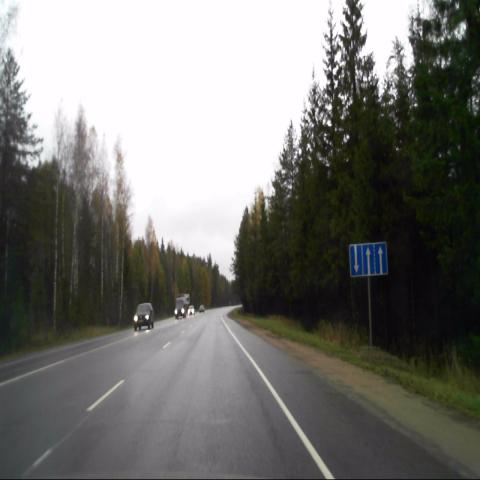5_15_7: (348, 242, 388, 278)
